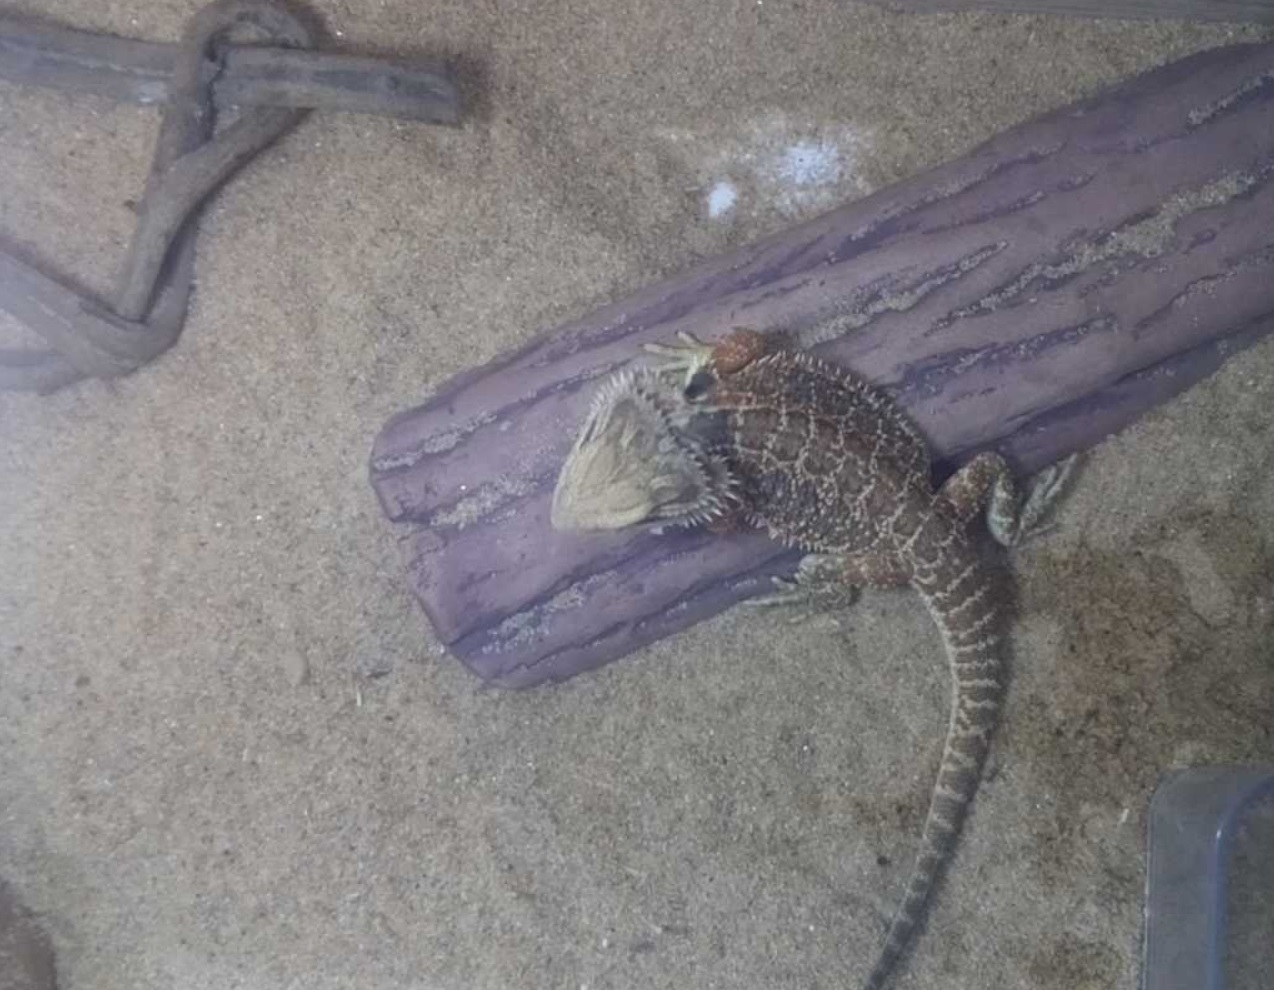bearded: (546, 320, 1081, 990)
